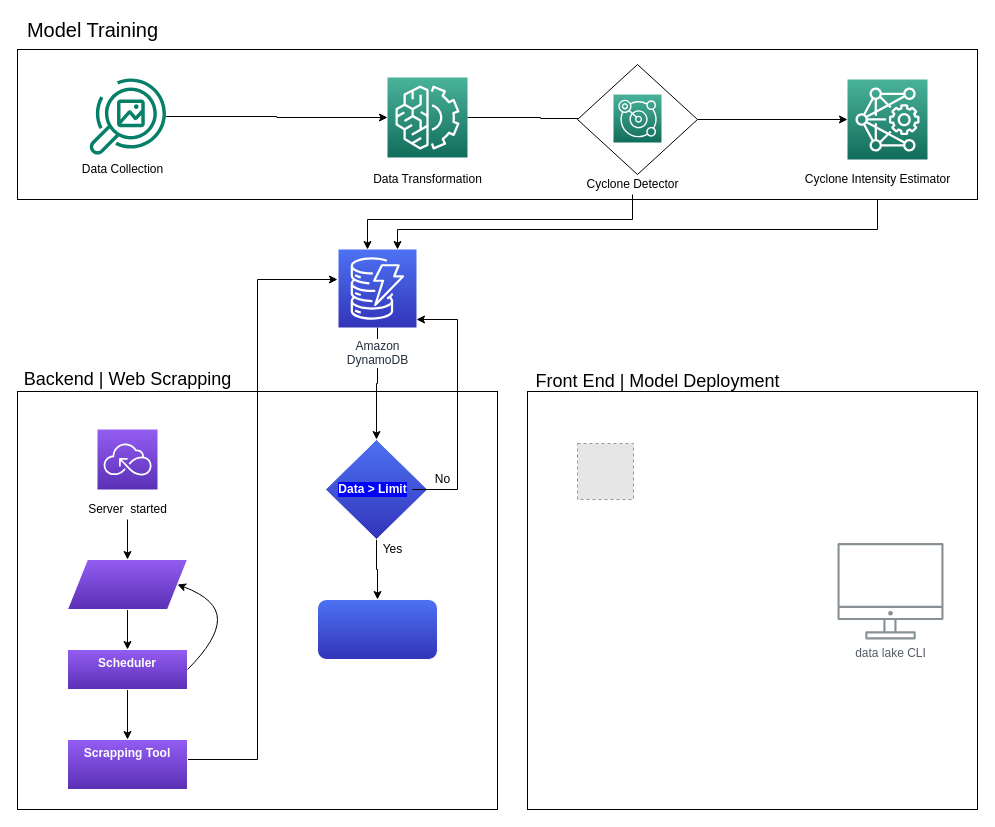
Image size: 995x827. Some labels were removed from this diagram. Grey dashed boxes stand in for pictures. Here are the shapes that lost their labels. From the top down, the centre of each, then its label:
pixel 127 584: URL of Live Images
pixel 377 629: Delete
